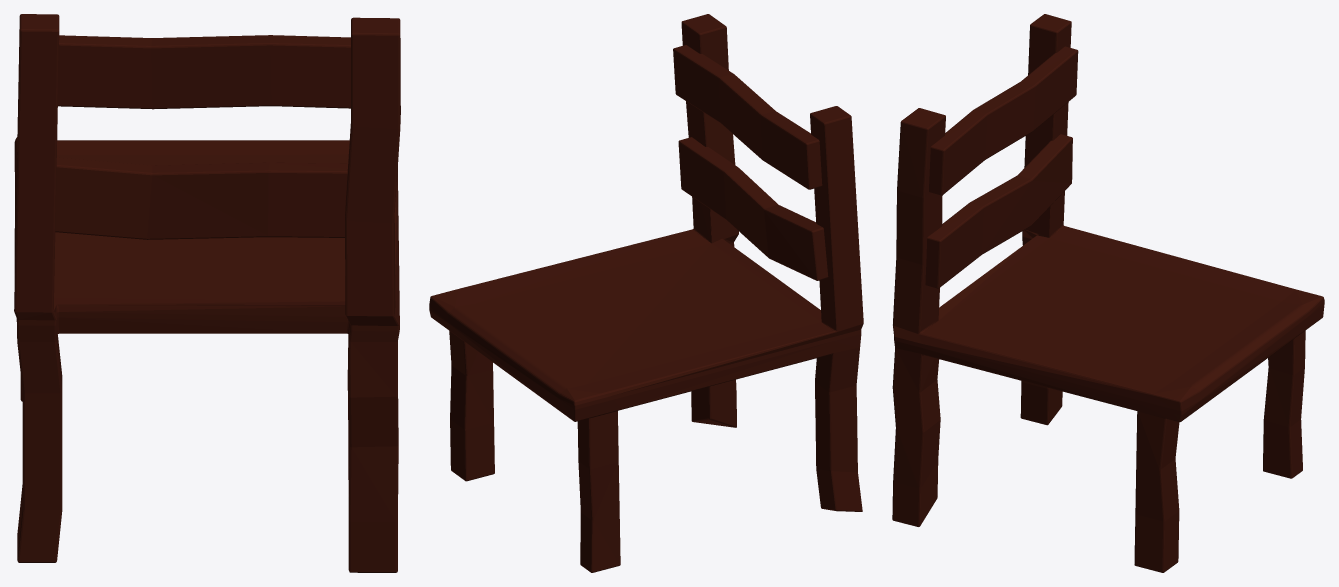
File: kursi.obj
The picture shows the model from 3 angles, left to right: view 1: azimuth 30°, elevation 25°; view 2: azimuth 150°, elevation 25°; view 3: azimuth 270°, elevation 25°; orthographic projection. The views are drawn at different scales.
Visible parts, largest first — view 1: chair_Plane.006; view 2: chair_Plane.006; view 3: chair_Plane.006.
Part boxes in pixels (<box>): chair_Plane.006: <box>14,14,400,572</box>; chair_Plane.006: <box>429,14,863,572</box>; chair_Plane.006: <box>892,14,1324,572</box>.
Size of the model in its own units: 1.63 by 1.75 by 1.68.
